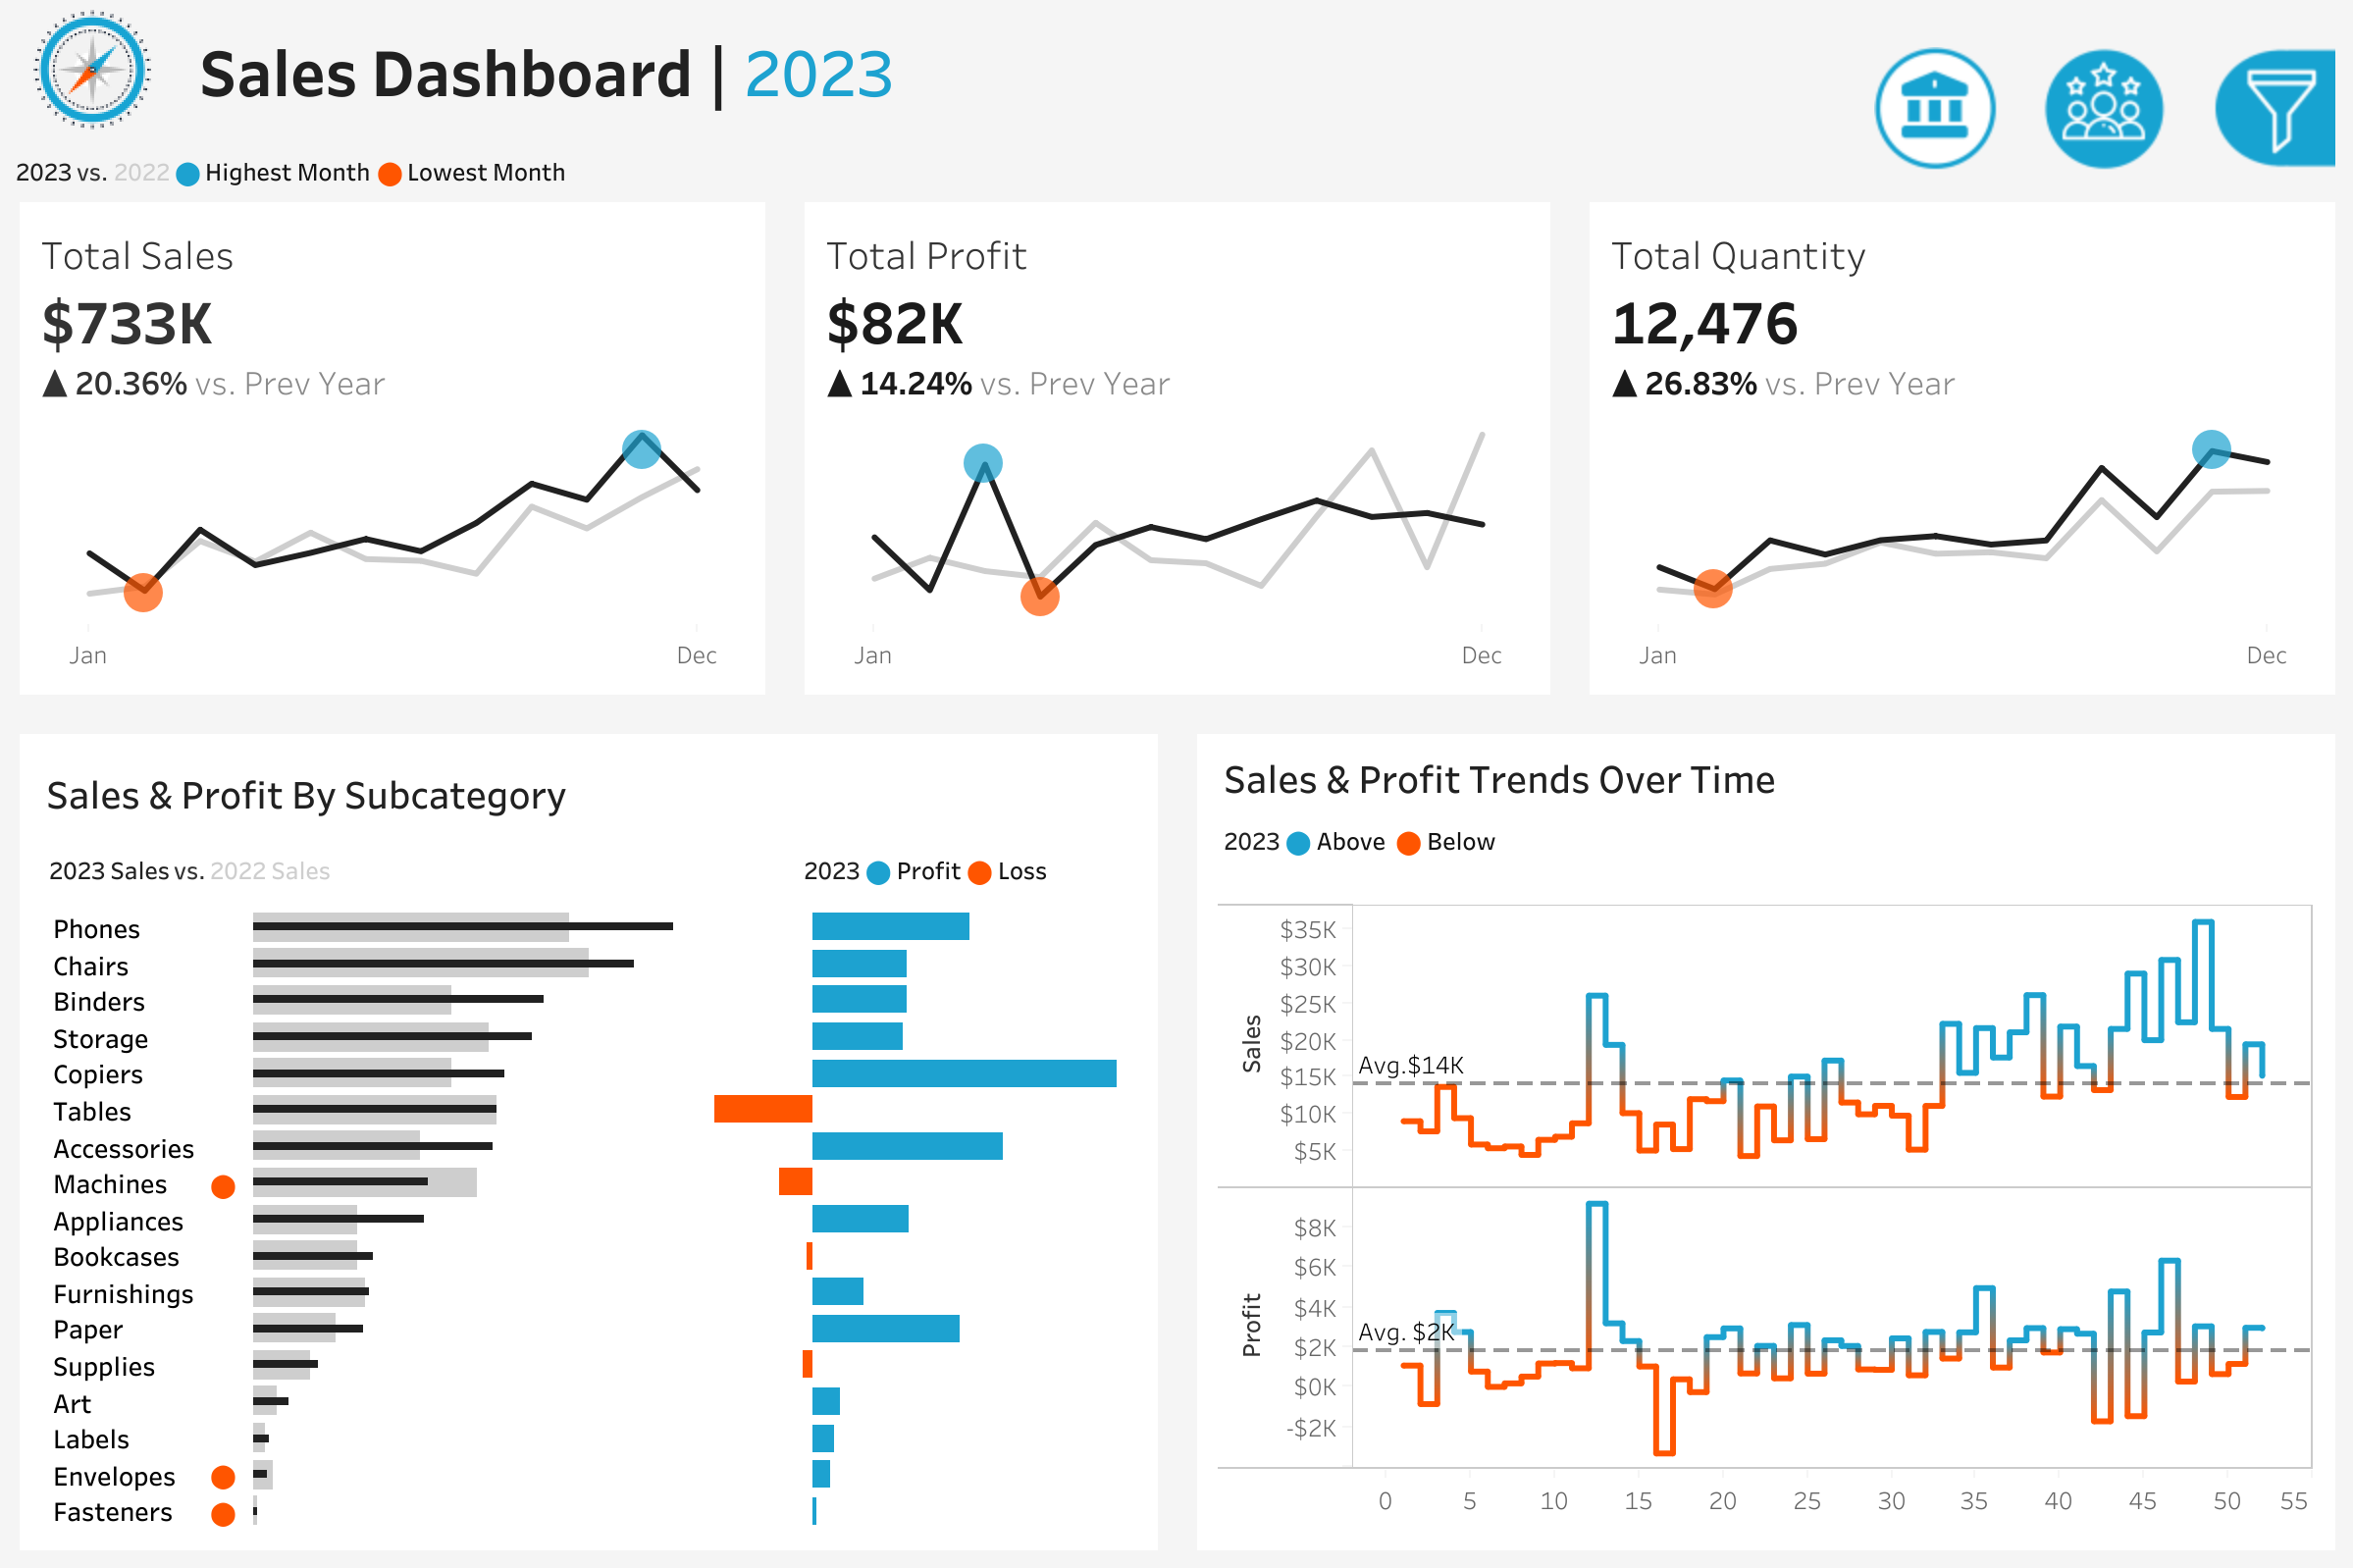

The page's visual inventory and layout, read from the dashboard file:
{"tool":"tableau","page":{"name":"Sales Dashboard","canvas":[1200,800],"ordinal":1},"visuals":[{"type":"image","param":"Image/Icon - Logo.png","box":[0,0,95,71]},{"type":"text","box":[95,0,846,71]},{"type":"blank","box":[957,10,225,97]},{"type":"dashboard-object","box":[943,20,87,71]},{"type":"dashboard-object","box":[1030,20,86,71]},{"type":"dashboard-object","box":[1116,20,86,71]},{"type":"worksheet","title":"Legend KPI","mark":"Automatic","box":[0,71,1200,32]},{"type":"worksheet","title":"KPI Sales","mark":"Automatic","rows":["Calculation_3081236215272837124"],"cols":["Order Date"],"box":[0,103,400,261]},{"type":"worksheet","title":"KPI Profit","mark":"Automatic","rows":["Min/Max Sales (copy)_3271583668330512384"],"cols":["Order Date"],"box":[400,103,400,261]},{"type":"worksheet","title":"KPI Quantity","mark":"Automatic","rows":["Min/Max Sales (copy)_3312327171228311555"],"cols":["Order Date"],"box":[800,103,400,261]},{"type":"text","box":[957,107,225,35]},{"type":"parameter","param":"[Parameters].[Parameter 1]","box":[957,142,225,96]},{"type":"text","box":[957,238,225,29]},{"type":"filter","title":"KPI Sales","param":"[federated.1h2997k1jm8rlc11h7aan1rnraa2].[none:Category:nk]","box":[957,267,225,52]},{"type":"filter","title":"KPI Sales","param":"[federated.1h2997k1jm8rlc11h7aan1rnraa2].[none:Sub-Category:nk]","box":[957,319,225,52]},{"type":"blank","box":[957,371,225,39]},{"type":"text","box":[17,381,566,46]},{"type":"text","box":[617,381,566,31]},{"type":"text","box":[957,410,225,29]},{"type":"text","box":[617,412,566,31]},{"type":"worksheet","title":"Legend Subcategory","mark":"Automatic","box":[17,427,386,32]},{"type":"text","box":[403,427,180,32]},{"type":"filter","title":"KPI Sales","param":"[federated.1h2997k1jm8rlc11h7aan1rnraa2].[none:Region:nk]","box":[957,439,225,52]},{"type":"worksheet","title":"Weekly Trends","mark":"Automatic","rows":["Calculation_3081236215265640448","Calculation_3165819445806948355"],"cols":["Order Date"],"box":[617,456.9,566,326.1]},{"type":"worksheet","title":"Subcategory Comparison","mark":"Bar","rows":["Sub-Category","Calculation_3367777741677248512"],"cols":["CY Sales (copy)_3081236215266365441","Calculation_3081236215265640448","Calculation_3165819445806948355"],"box":[17,459,566,324]},{"type":"filter","title":"KPI Sales","param":"[federated.1h2997k1jm8rlc11h7aan1rnraa2].[none:State:nk]","box":[957,491,225,52]},{"type":"filter","title":"KPI Sales","param":"[federated.1h2997k1jm8rlc11h7aan1rnraa2].[none:City:nk]","box":[957,543,225,52]}]}

Visuals, with their boxes in screenshot pixels (x1, y1, x2, y2), scaled from the page's 1200x800 canvas onto the 2353x1568 screenshot:
image: [0,0,186,139]
text: [186,0,1845,139]
blank: [1876,20,2318,210]
dashboard-object: [1849,39,2019,179]
dashboard-object: [2019,39,2188,179]
dashboard-object: [2188,39,2352,179]
"Legend KPI" worksheet: [0,139,2352,202]
"KPI Sales" worksheet: [0,202,784,713]
"KPI Profit" worksheet: [784,202,1569,713]
"KPI Quantity" worksheet: [1569,202,2352,713]
text: [1876,210,2318,279]
parameter: [1876,279,2318,466]
text: [1876,466,2318,523]
"KPI Sales" filter: [1876,523,2318,625]
"KPI Sales" filter: [1876,625,2318,727]
blank: [1876,727,2318,804]
text: [33,747,1143,837]
text: [1210,747,2320,808]
text: [1876,804,2318,861]
text: [1210,808,2320,868]
"Legend Subcategory" worksheet: [33,837,790,900]
text: [790,837,1143,900]
"KPI Sales" filter: [1876,861,2318,963]
"Weekly Trends" worksheet: [1210,896,2320,1535]
"Subcategory Comparison" worksheet (Bar marks): [33,900,1143,1535]
"KPI Sales" filter: [1876,963,2318,1065]
"KPI Sales" filter: [1876,1065,2318,1167]
